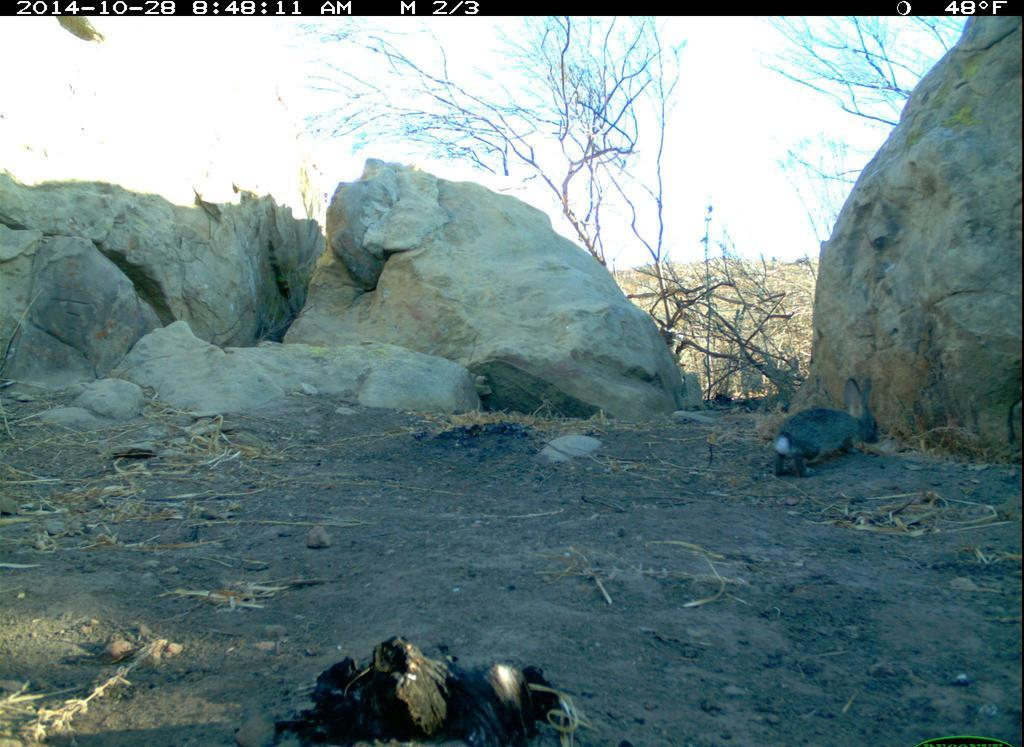rabbit: (765, 368, 902, 478)
